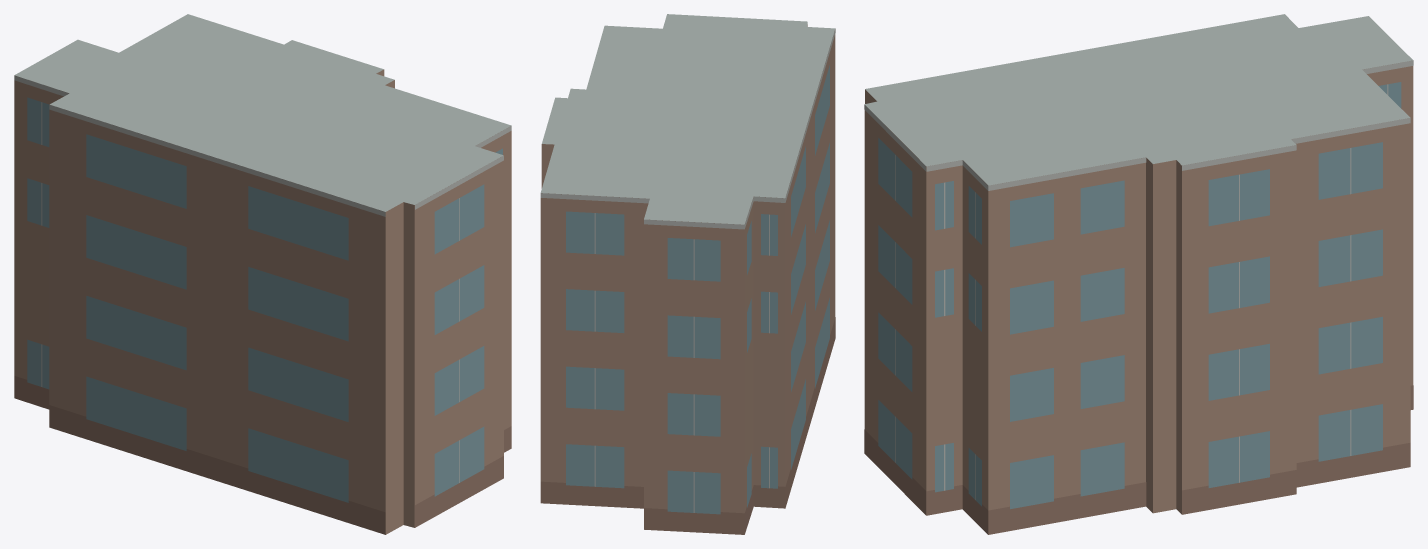
File: survey-upis-32854664.glb
3 views of the same model, side by side, from view 1: azimuth 30°, elevation 25°; view 2: azimuth 150°, elevation 25°; view 3: azimuth 270°, elevation 25° (orthographic). The views are drawn at different scales.
Visible parts, largest first — view 1: survey-upis-32854664.tmp; view 2: survey-upis-32854664.tmp; view 3: survey-upis-32854664.tmp.
Boxes of the visible parts, x1,y1,x2,y2 form: survey-upis-32854664.tmp: (14,14,511,534); survey-upis-32854664.tmp: (540,14,835,534); survey-upis-32854664.tmp: (864,14,1413,534).
Bounding box in the file's own units: 16.6 × 15.74 × 22.43.
